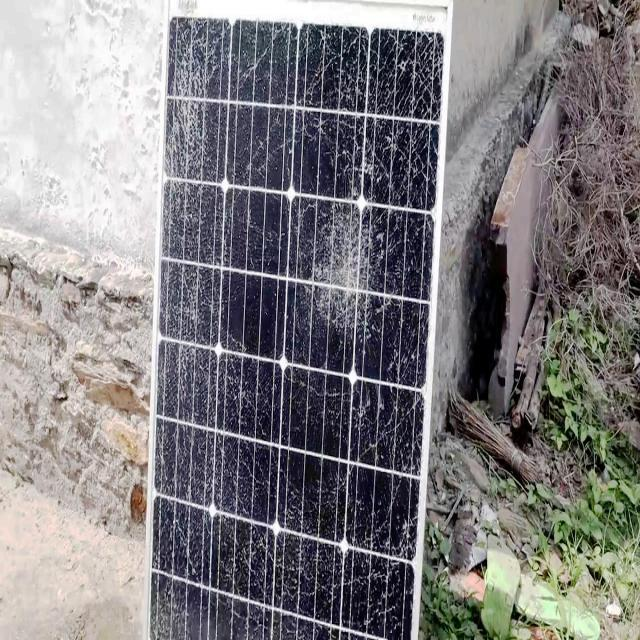faulty: (150, 5, 446, 640)
